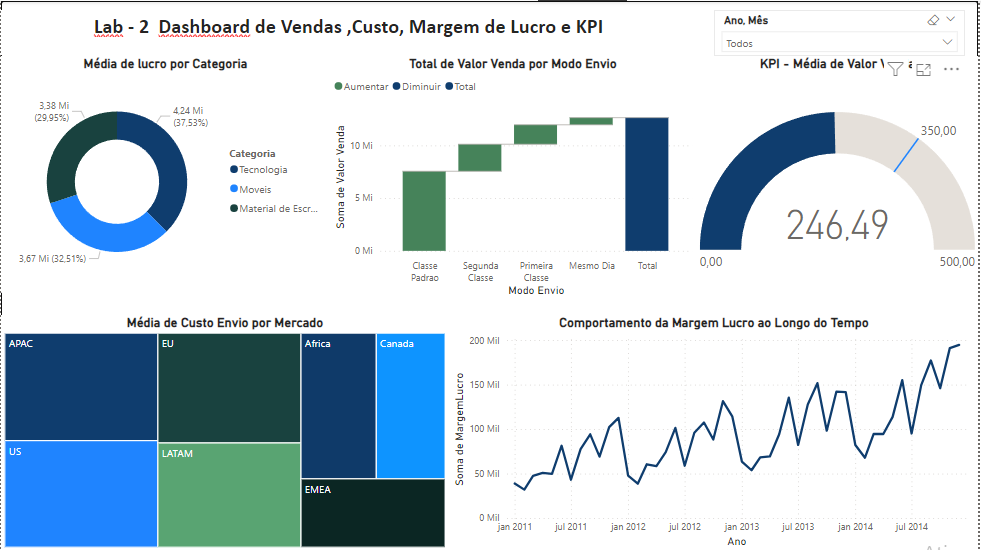

The page's visual inventory and layout, read from the dashboard file:
{"tool":"powerbi","page":{"name":"Página 1","canvas":[1280,720],"ordinal":0},"visuals":[{"type":"waterfallChart","title":"Total de Valor Venda por Modo Envio","fields":{"Category":["Pedidos.Modo Envio"],"Y":["Sum(Vendas.Valor Venda)"]},"box":[430.7,72,479.1,319.4],"z":0},{"type":"treemap","fields":{"Group":["Clientes.Mercado"],"Values":["Avg(Vendas.Custo Envio)"]},"box":[0,411.1,586.5,308.9],"z":1},{"type":"gauge","title":"KPI - Média de Valor Venda","fields":{"Y":["Avg(Vendas.Valor Venda)"]},"box":[909.8,72,370.5,339.1],"z":2},{"type":"slicer","fields":{"Values":["Pedidos.Data Pedido.Variation.Hierarquia de datas.Ano","Pedidos.Data Pedido.Variation.Hierarquia de datas.Mês"]},"box":[933.4,11.8,328.6,60.2],"z":3},{"type":"donutChart","title":"Média de lucro por Categoria","fields":{"Category":["Produtos.Categoria"],"Y":["Sum(Vendas.Coluna)"]},"box":[0,72,430.7,310.3],"z":4},{"type":"lineChart","title":"Comportamento da Margem Lucro  ao Longo do Tempo","fields":{"Category":["Pedidos.Data Pedido.Variation.Hierarquia de datas.Ano","Pedidos.Data Pedido.Variation.Hierarquia de datas.Trimestre","Pedidos.Data Pedido.Variation.Hierarquia de datas.Mês"],"Y":["Sum(Vendas.MargemLucro)"]},"box":[586.5,411.1,693.8,308.9],"z":5},{"type":"textbox","box":[0,11.8,909.8,58.9],"z":6}]}

Visuals, with their boxes in screenshot pixels (x1, y1, x2, y2), scaled from the page's 1280x720 canvas onto the 981x550 screenshot:
"Total de Valor Venda por Modo Envio" waterfallChart: {"x1": 330, "y1": 55, "x2": 697, "y2": 299}
treemap - Clientes.Mercado x Avg(Vendas.Custo Envio): {"x1": 0, "y1": 314, "x2": 449, "y2": 549}
"KPI - Média de Valor Venda" gauge: {"x1": 697, "y1": 55, "x2": 980, "y2": 314}
slicer - Pedidos.Data Pedido.Variation.Hierarquia de datas.Ano x Pedidos.Data Pedido.Variation.Hierarquia de datas.Mês: {"x1": 715, "y1": 9, "x2": 967, "y2": 55}
"Média de lucro por Categoria" donutChart: {"x1": 0, "y1": 55, "x2": 330, "y2": 292}
"Comportamento da Margem Lucro  ao Longo do Tempo" lineChart: {"x1": 449, "y1": 314, "x2": 980, "y2": 549}
textbox: {"x1": 0, "y1": 9, "x2": 697, "y2": 54}
